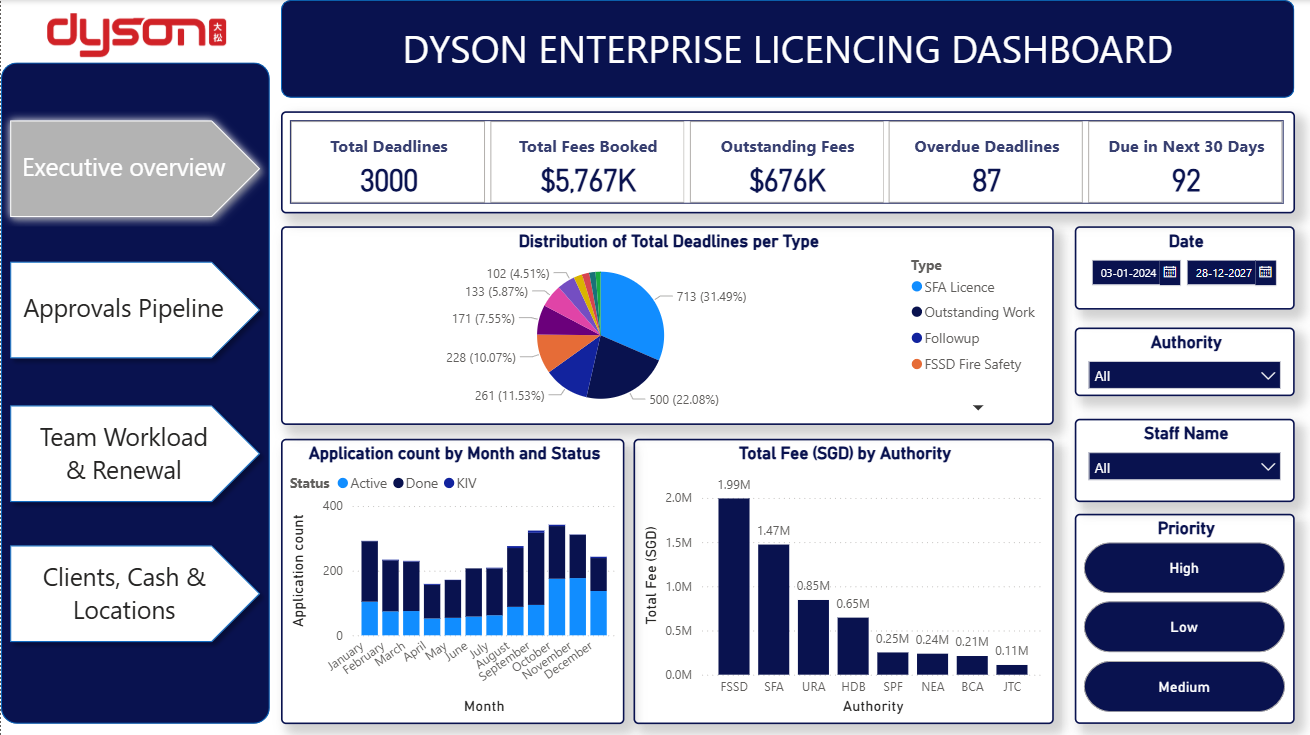

Layout of this report page (visuals, bound fields, positions):
{"tool":"powerbi","page":{"name":"Page 1","canvas":[1280,720],"ordinal":0},"visuals":[{"type":"columnChart","fields":{"Category":["Main.Deadline.Variation.Date Hierarchy.Month"],"Y":["CountNonNull(Main.Entry ID)"],"Series":["Main.Status"]},"box":[273.9,429.2,336.3,278.8],"z":0},{"type":"pieChart","title":"Distribution of Total Deadlines per Type","fields":{"Category":["Main.Type"],"Y":["Count(Main.Deadline)"]},"box":[273.9,221.3,755.7,194.4],"z":1000},{"type":"shape","box":[274.3,0,991.4,95.7],"z":2000},{"type":"textbox","box":[353.8,17.5,832.5,60],"z":3000},{"type":"shape","box":[0,61.1,262.9,646.9],"z":4000},{"type":"shape","box":[0,108.8,262.5,112.5],"z":5000},{"type":"shape","box":[0,247.5,262.5,112.5],"z":6000},{"type":"shape","box":[0,387.5,262.5,112.5],"z":7000},{"type":"shape","box":[0,525,262.5,112.5],"z":8000},{"type":"textbox","box":[25,406.2,191.2,75],"z":9000},{"type":"textbox","box":[10,141.2,220,46.2],"z":10000},{"type":"textbox","box":[33.8,542.5,172.5,78.8],"z":11000},{"type":"textbox","box":[12.5,280,215,47.5],"z":12000},{"type":"actionButton","box":[10,255,217.5,95],"z":13000},{"type":"actionButton","box":[10,396.2,217.5,95],"z":14000},{"type":"actionButton","box":[10,535,217.5,95],"z":15000},{"type":"clusteredColumnChart","title":"Total Fee (SGD) by Authority","fields":{"Category":["Main.Authority"],"Y":["Sum(Main.Fee (SGD))"]},"box":[618.8,429.2,410.9,278.8],"z":16000},{"type":"slicer","title":"Date","fields":{"Values":["Main.Deadline"]},"box":[1050.4,221.3,215.2,81.9],"z":17000},{"type":"slicer","title":"Authority","fields":{"Values":["Main.Authority"]},"box":[1050.4,320.4,215.2,67.3],"z":18000},{"type":"slicer","title":"Staff Name","fields":{"Values":["Main.Staff Name"]},"box":[1050.4,409.6,215.2,81.9],"z":19000},{"type":"advancedSlicerVisual","fields":{"Values":["Main.Priority"]},"box":[1050.4,502.6,215.2,205.4],"z":20000},{"type":"cardVisual","fields":{"Data":["Main.Total Deadlines","Main.Total Fees","Main.Outstanding","Main.Overdue Deadlines","Main.Due Next 30"]},"box":[273.9,108.8,991.7,100.3],"z":21000},{"type":"image","box":[35,0,195,61.2],"z":22000}]}

Visuals, with their boxes in screenshot pixels (x1, y1, x2, y2), scaled from the page's 1280x720 canvas onto the 1310x735 screenshot:
columnChart - Main.Deadline.Variation.Date Hierarchy.Month x CountNonNull(Main.Entry ID): (left=280, top=438, right=625, bottom=723)
"Distribution of Total Deadlines per Type" pieChart: (left=280, top=226, right=1054, bottom=424)
shape: (left=281, top=0, right=1295, bottom=98)
textbox: (left=362, top=18, right=1214, bottom=79)
shape: (left=0, top=62, right=269, bottom=723)
shape: (left=0, top=111, right=269, bottom=226)
shape: (left=0, top=253, right=269, bottom=368)
shape: (left=0, top=396, right=269, bottom=510)
shape: (left=0, top=536, right=269, bottom=651)
textbox: (left=26, top=415, right=221, bottom=491)
textbox: (left=10, top=144, right=235, bottom=191)
textbox: (left=35, top=554, right=211, bottom=634)
textbox: (left=13, top=286, right=233, bottom=334)
actionButton: (left=10, top=260, right=233, bottom=357)
actionButton: (left=10, top=404, right=233, bottom=501)
actionButton: (left=10, top=546, right=233, bottom=643)
"Total Fee (SGD) by Authority" clusteredColumnChart: (left=633, top=438, right=1054, bottom=723)
"Date" slicer: (left=1075, top=226, right=1295, bottom=310)
"Authority" slicer: (left=1075, top=327, right=1295, bottom=396)
"Staff Name" slicer: (left=1075, top=418, right=1295, bottom=502)
advancedSlicerVisual - Main.Priority: (left=1075, top=513, right=1295, bottom=723)
cardVisual - Main.Total Deadlines x Main.Total Fees: (left=280, top=111, right=1295, bottom=213)
image: (left=36, top=0, right=235, bottom=62)
